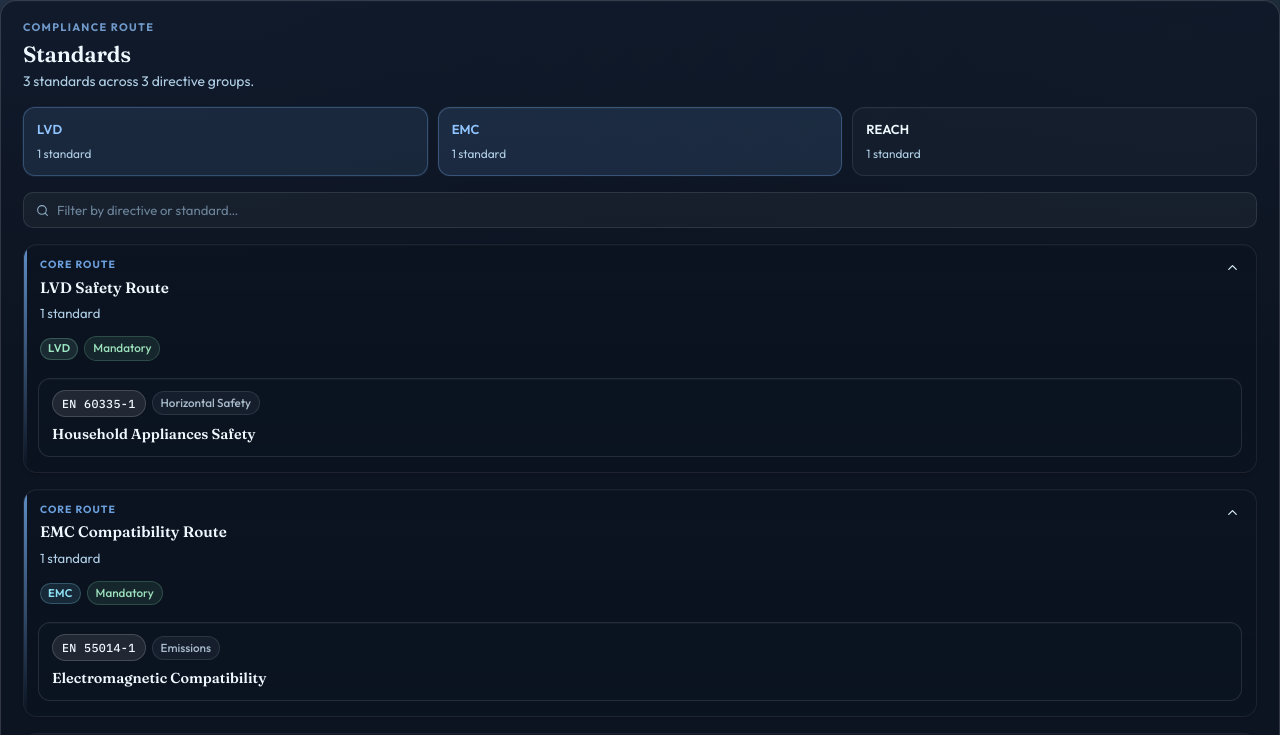
Test: StandardsRoutePanel search/filter › shows no-match message when query matches nothing
Type "ZZZNOTFOUND" into the search field named "filter standards" at x=652, y=210, box [57, 198, 1246, 222]
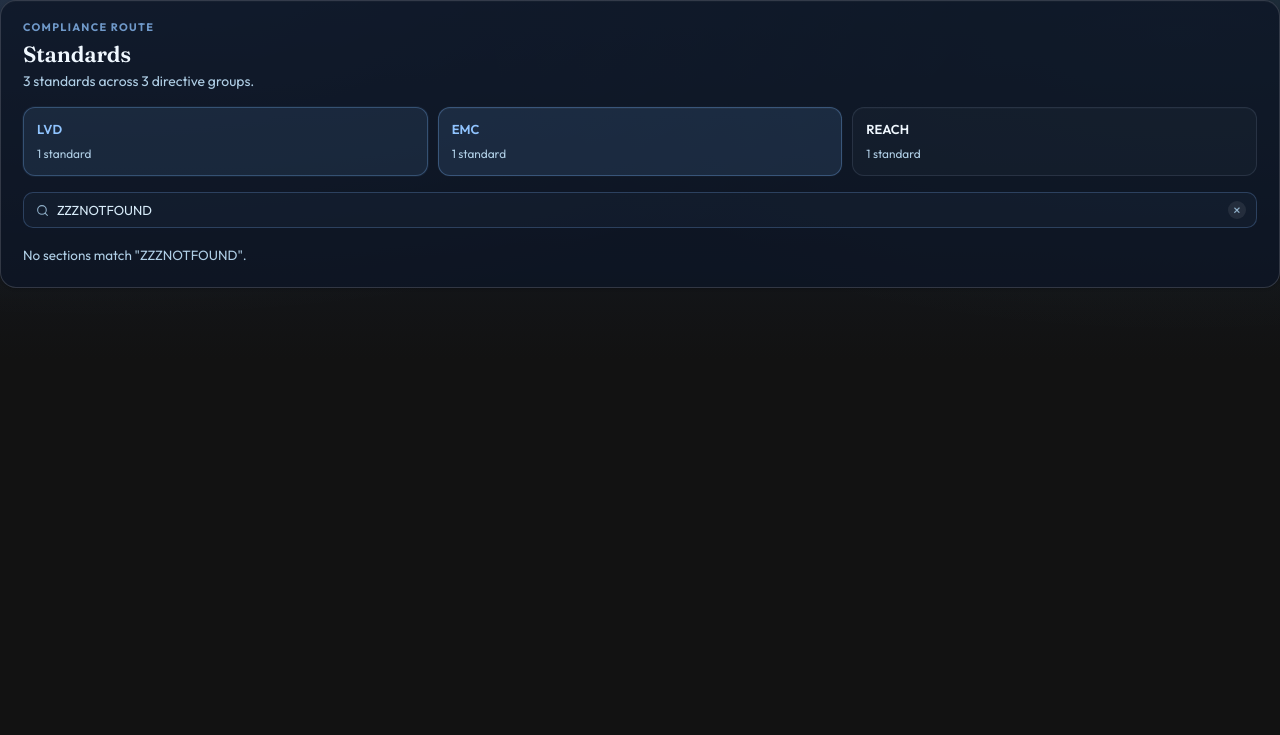
Result: the text "No sections match \"ZZZNOTFOUND\"." is shown at [23, 247, 247, 263]
